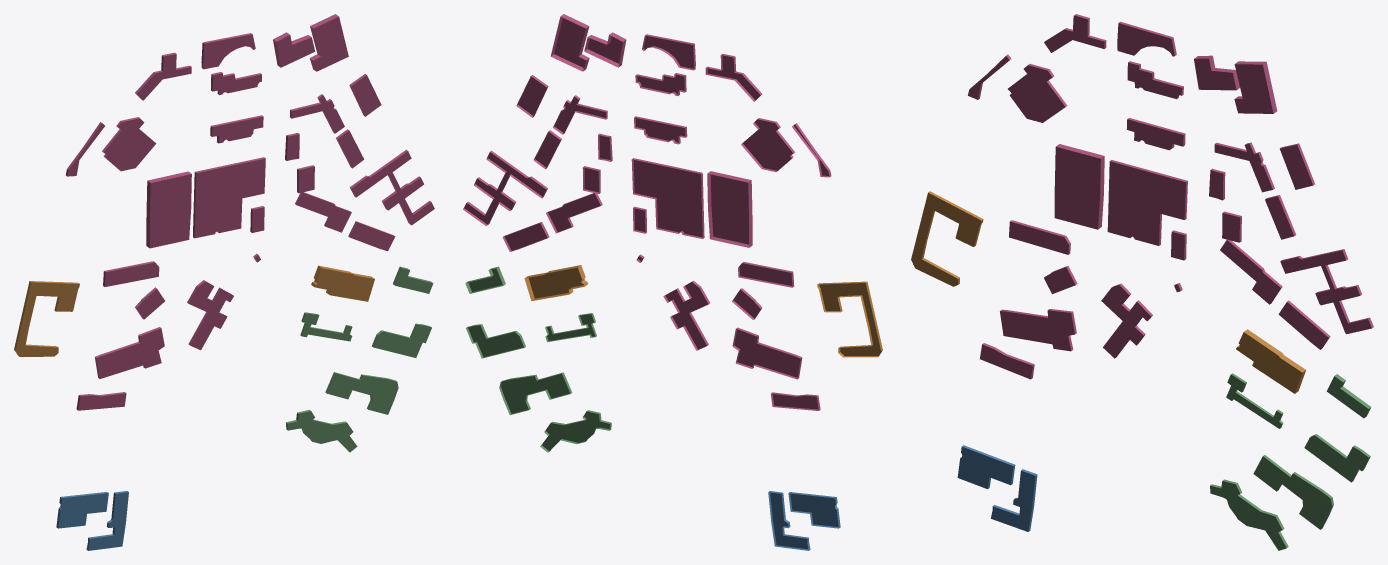
The model's file is buildings_k13.obj.
The picture shows the model from 3 angles, left to right: view 1: azimuth 30°, elevation 25°; view 2: azimuth 150°, elevation 25°; view 3: azimuth 330°, elevation 25°; orthographic projection. The views are drawn at different scales.
Parts seen in each view (by area): view 1: roof1, roof3, zone1, roof2, roof4, zone3, zone2; view 2: roof1, zone1, roof3, roof2, roof4, zone3, zone2, zone4; view 3: roof1, roof3, zone1, roof2, roof4, zone3, zone2.
Part boxes in pixels (<box>): roof1: <box>67,17,434,410</box>; roof3: <box>287,268,433,452</box>; zone1: <box>65,14,430,410</box>; roof2: <box>16,268,374,356</box>; roof4: <box>58,492,128,550</box>; zone3: <box>286,266,432,451</box>; zone2: <box>14,265,374,356</box>; roof1: <box>465,18,829,409</box>; zone1: <box>463,14,831,410</box>; roof3: <box>468,268,609,450</box>; roof2: <box>528,267,880,355</box>; roof4: <box>770,492,838,549</box>; zone3: <box>465,266,611,452</box>; zone2: <box>524,265,882,357</box>; zone4: <box>768,491,840,550</box>; roof1: <box>968,15,1371,379</box>; roof3: <box>1210,374,1368,550</box>; zone1: <box>978,14,1373,378</box>; roof2: <box>911,192,1301,393</box>; roof4: <box>957,447,1035,531</box>; zone3: <box>1210,373,1371,547</box>; zone2: <box>922,191,1305,393</box>.
Size of the model in its own units: 589 by 648 by 8.5.
